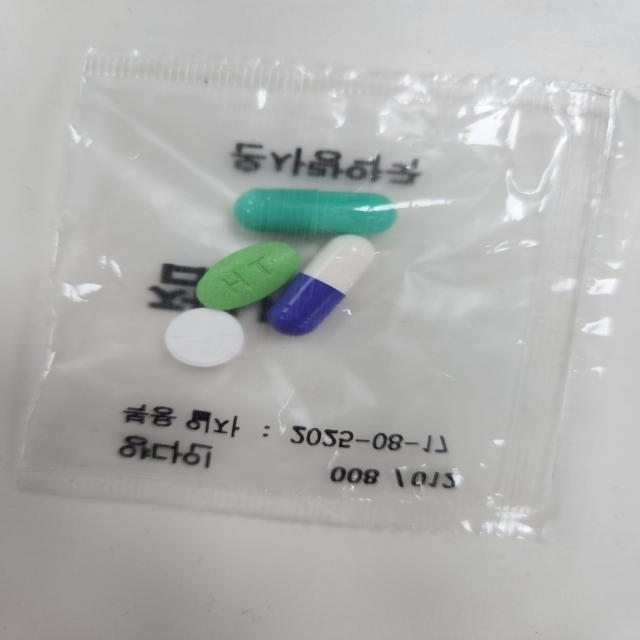러키펜정: (163, 308, 247, 371)
씨엠지세파클러캡슐: (263, 238, 377, 340)
에르도캡슐: (235, 190, 398, 238)
휴티렌정: (194, 242, 305, 313)
